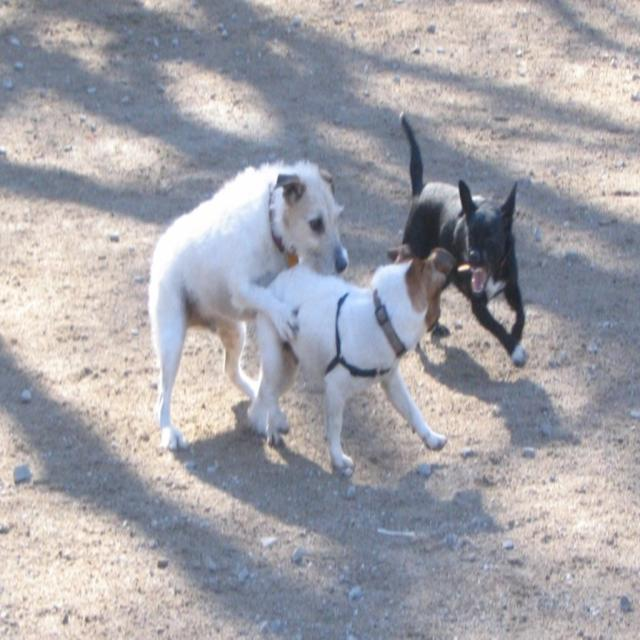Dog: (144, 157, 350, 454), (242, 238, 457, 484), (399, 107, 525, 368)
